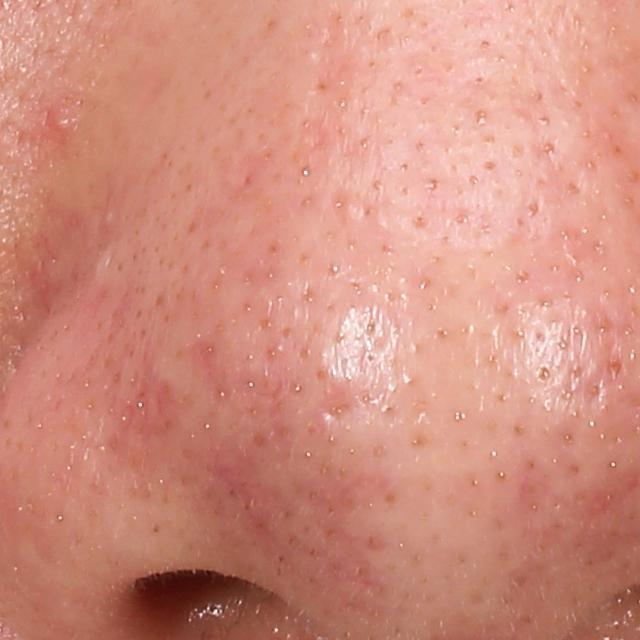papule: (45, 101, 79, 134)
